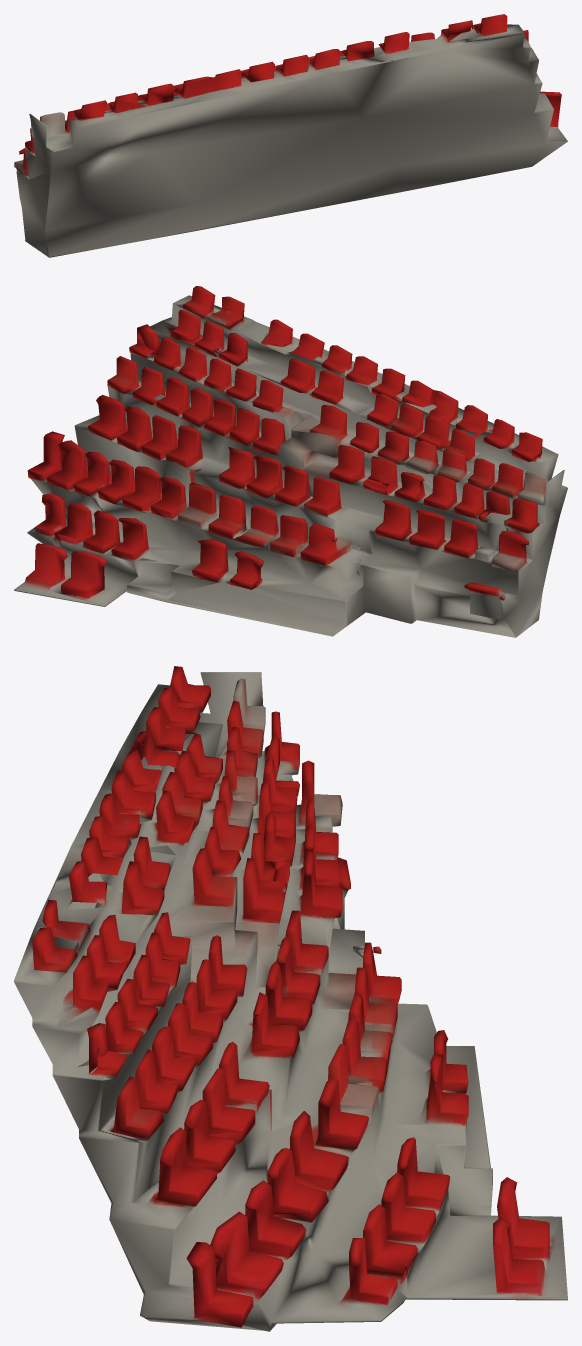
The model's file is seating_section.glb.
3 views of the same model, one above another, from view 1: azimuth 30°, elevation 25°; view 2: azimuth 150°, elevation 25°; view 3: azimuth 270°, elevation 25° (orthographic). The views are drawn at different scales.
Parts seen in each view (by area): view 1: tripo_node_97bbd6f3-2ebf-4f3a-a259-dfbe42c29398; view 2: tripo_node_97bbd6f3-2ebf-4f3a-a259-dfbe42c29398; view 3: tripo_node_97bbd6f3-2ebf-4f3a-a259-dfbe42c29398.
Boxes of the visible parts, x1,y1,x2,y2 form: tripo_node_97bbd6f3-2ebf-4f3a-a259-dfbe42c29398: [14, 14, 567, 257]; tripo_node_97bbd6f3-2ebf-4f3a-a259-dfbe42c29398: [14, 286, 567, 637]; tripo_node_97bbd6f3-2ebf-4f3a-a259-dfbe42c29398: [14, 666, 567, 1331].
Size of the model in its own units: 1 by 0.362 by 0.5342.
Materials: 1 (1 with a texture image).
